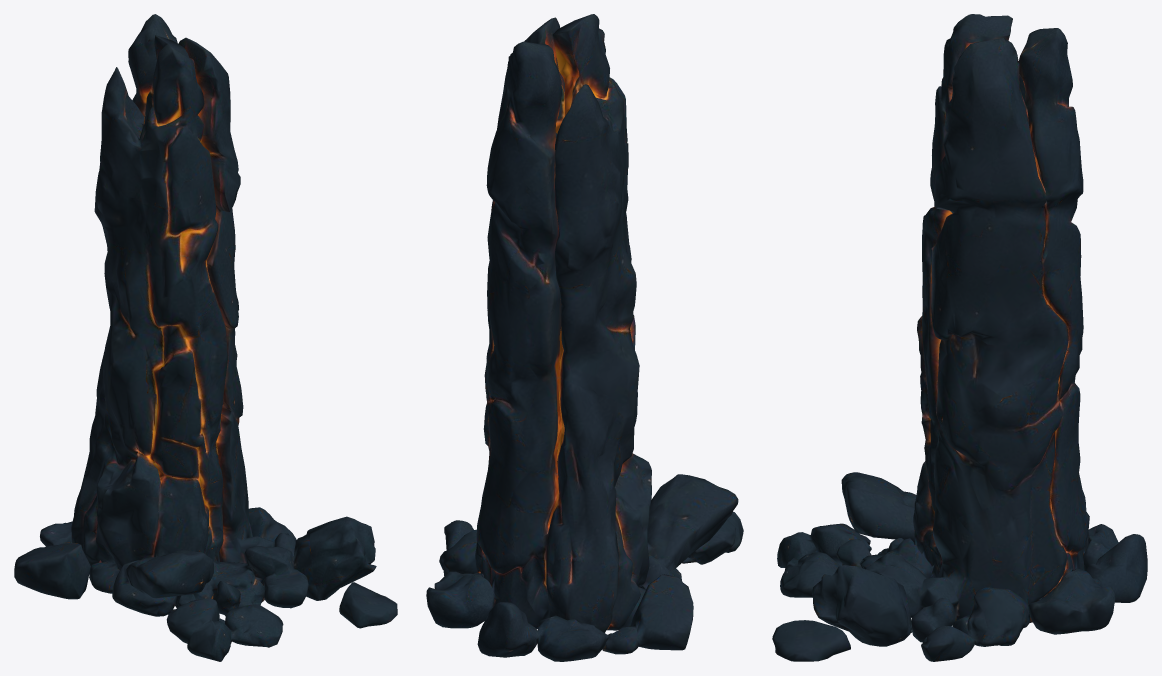
The model's file is ruin-monolith.glb.
3 views of the same model, side by side, from view 1: azimuth 30°, elevation 25°; view 2: azimuth 150°, elevation 25°; view 3: azimuth 270°, elevation 25° (orthographic). The views are drawn at different scales.
Bounding box in the file's own units: 1.01 × 1.9 × 1.13.
1 material, 1 textured.
